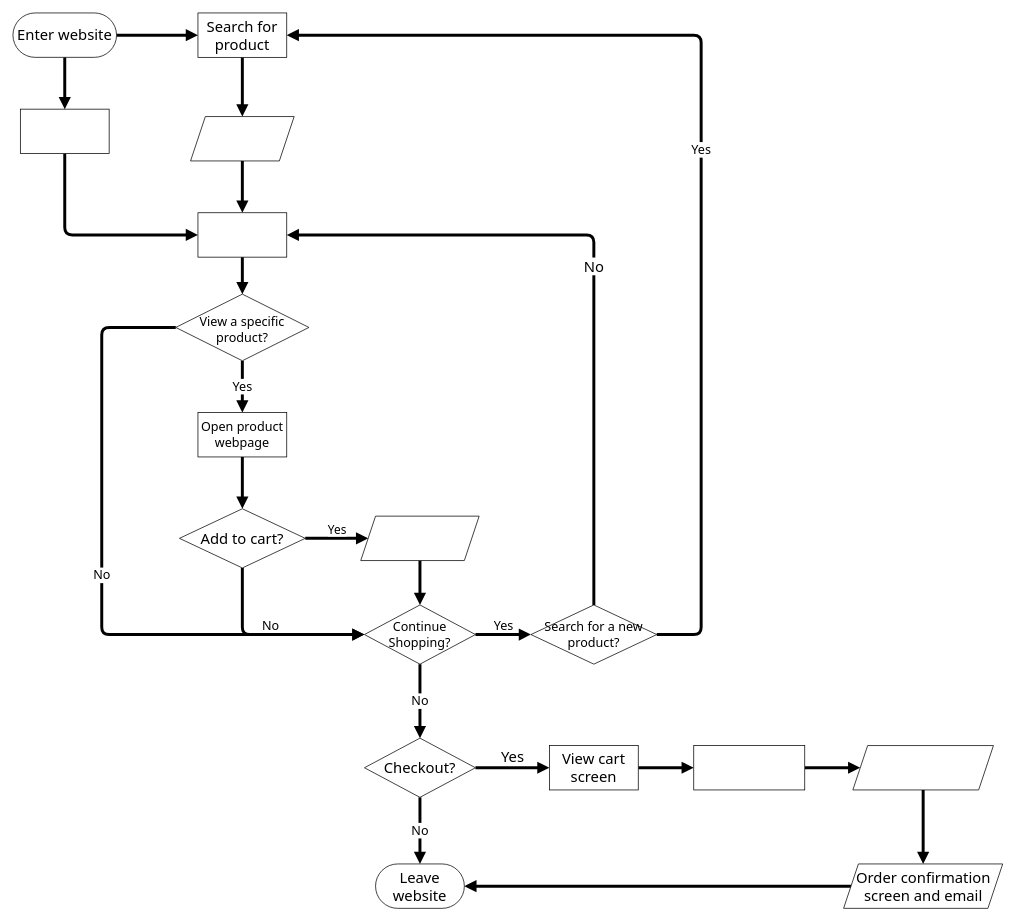
This 1016x921 diagram has some shape labels left out. Each missing label, with the centre of its shape:
"Add to cart confirmation" goes at point 419,538.
"Explore home page" goes at point 64,131.
"Input payment information" goes at point 922,767.
"Look over products" goes at point 242,234.
"Provide input for search" goes at point 242,138.
"View payment screen" goes at point 749,767.
